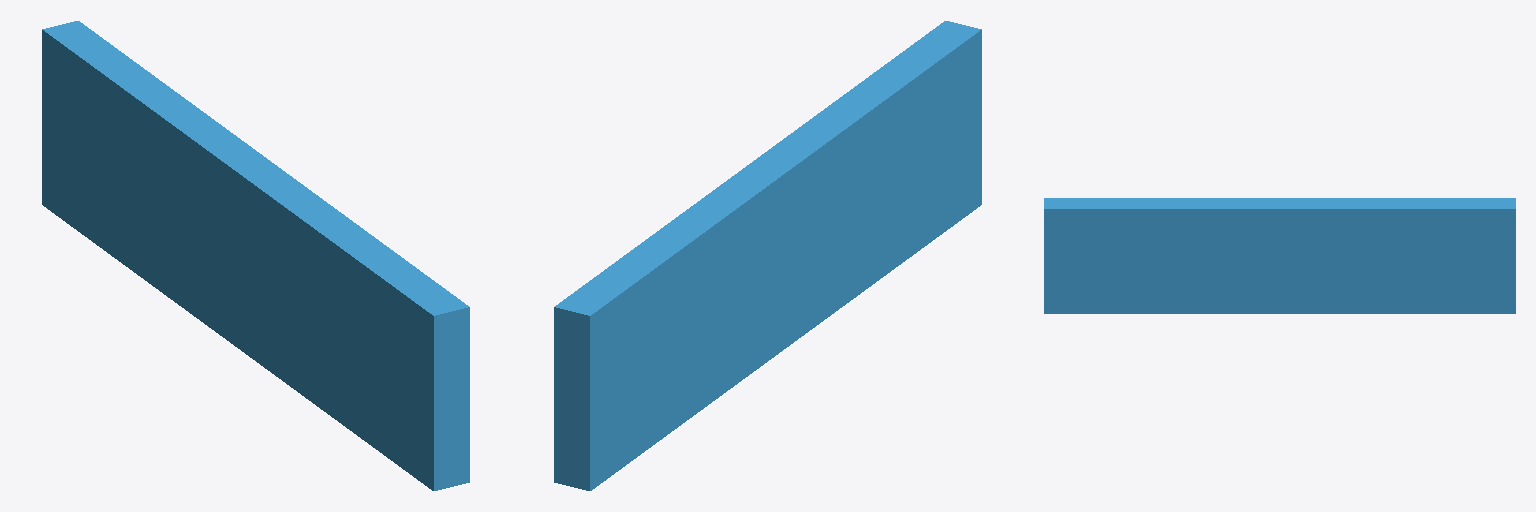
URDF robot description (box_20):
<?xml version="1.0" encoding="utf-8"?>    
    
    <robot name="box_20">
        <link name="box_20">    
            <fem>
                <origin rpy="0.0 0.0 0.0" xyz="0 0 0" />
                <density value="100" />
                <youngs value="10090"/>
                <poissons value="0.3"/>
                <damping value="0.0" /> 
                <attachDistance value="0.01"/>
                <tetmesh filename="../../../../Custom_mesh/physical_dvrk/multi_box_10kPa/box_20.tet"/>
                <scale value="1.0"/>
            </fem>
        </link>
        
        <link name="fix_frame">
            <visual>
                <origin xyz="-10.076 0.0 0.0"/>              
                <geometry>
                    <box size="0.005 0.093 0.023"/>
                </geometry>
            </visual>
            <collision>
                <origin xyz="-0.076 0.0 0.0"/>              
                <geometry>
                    <box size="0.005 0.093 0.023"/>
                </geometry>
            </collision>
            <inertial>
                <mass value="500000"/>
                <inertia ixx="0.05" ixy="0.0" ixz="0.0" iyy="0.05" iyz="0.0" izz="0.05"/>
            </inertial>
        </link>
        
        <joint name = "attach" type = "fixed">
            <origin xyz = "0.0 0.0 0.0" rpy = "0 0 0"/>
            <parent link = "box_20"/>
            <child link = "fix_frame"/>
        </joint>  
        
    </robot>
    

--- Render facts (derived) ---
Views: 3 orthographic renders of the robot side by side, from view 1: azimuth 30°, elevation 25°; view 2: azimuth 150°, elevation 25°; view 3: azimuth 270°, elevation 25°.
Robot: box_20 — 2 links, 1 joints (1 fixed); root link box_20; default pose: every joint at zero.
Links seen in each view (by area): view 1: fix_frame; view 2: fix_frame; view 3: fix_frame.
Boxes of the visible links, x1,y1,x2,y2 form: fix_frame: [42, 21, 469, 490]; fix_frame: [554, 21, 981, 490]; fix_frame: [1044, 198, 1515, 313].
Size in the robot's own frame: 0.005 by 0.093 by 0.023 metres.
Geometry: primitives only (box / cylinder / sphere), no mesh files.